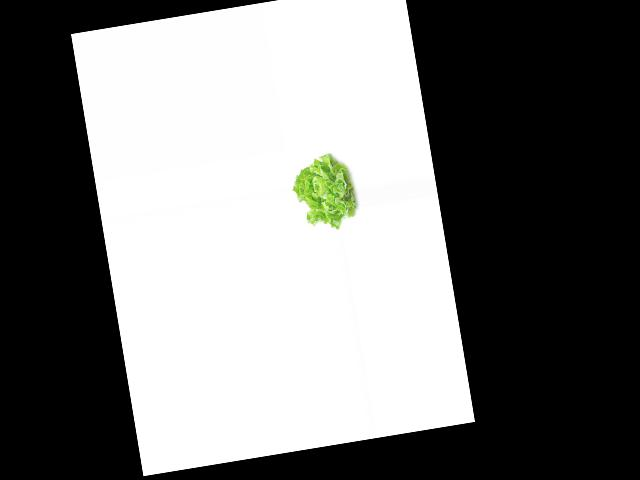lettuce: (288, 151, 361, 234)
